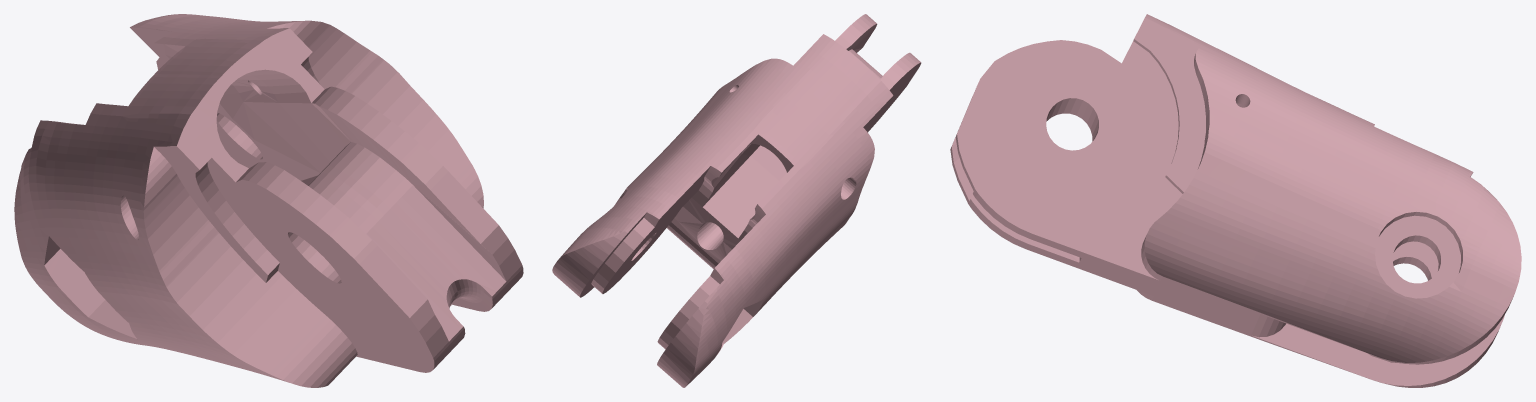
The model's file is i02_rightHand_pinkyMid_visual.obj.
3 views of the same model, side by side, from view 1: azimuth 30°, elevation 25°; view 2: azimuth 150°, elevation 25°; view 3: azimuth 270°, elevation 25° (orthographic). The views are drawn at different scales.
Parts seen in each view (by area): view 1: i02_rightHand_pinkyMid_visual.001; view 2: i02_rightHand_pinkyMid_visual.001; view 3: i02_rightHand_pinkyMid_visual.001.
Boxes of the visible parts, x1,y1,x2,y2 form: i02_rightHand_pinkyMid_visual.001: (14,14,523,387); i02_rightHand_pinkyMid_visual.001: (552,14,921,387); i02_rightHand_pinkyMid_visual.001: (950,14,1521,387).
Bounding box in the file's own units: 0.2075 × 0.2597 × 0.3863.
